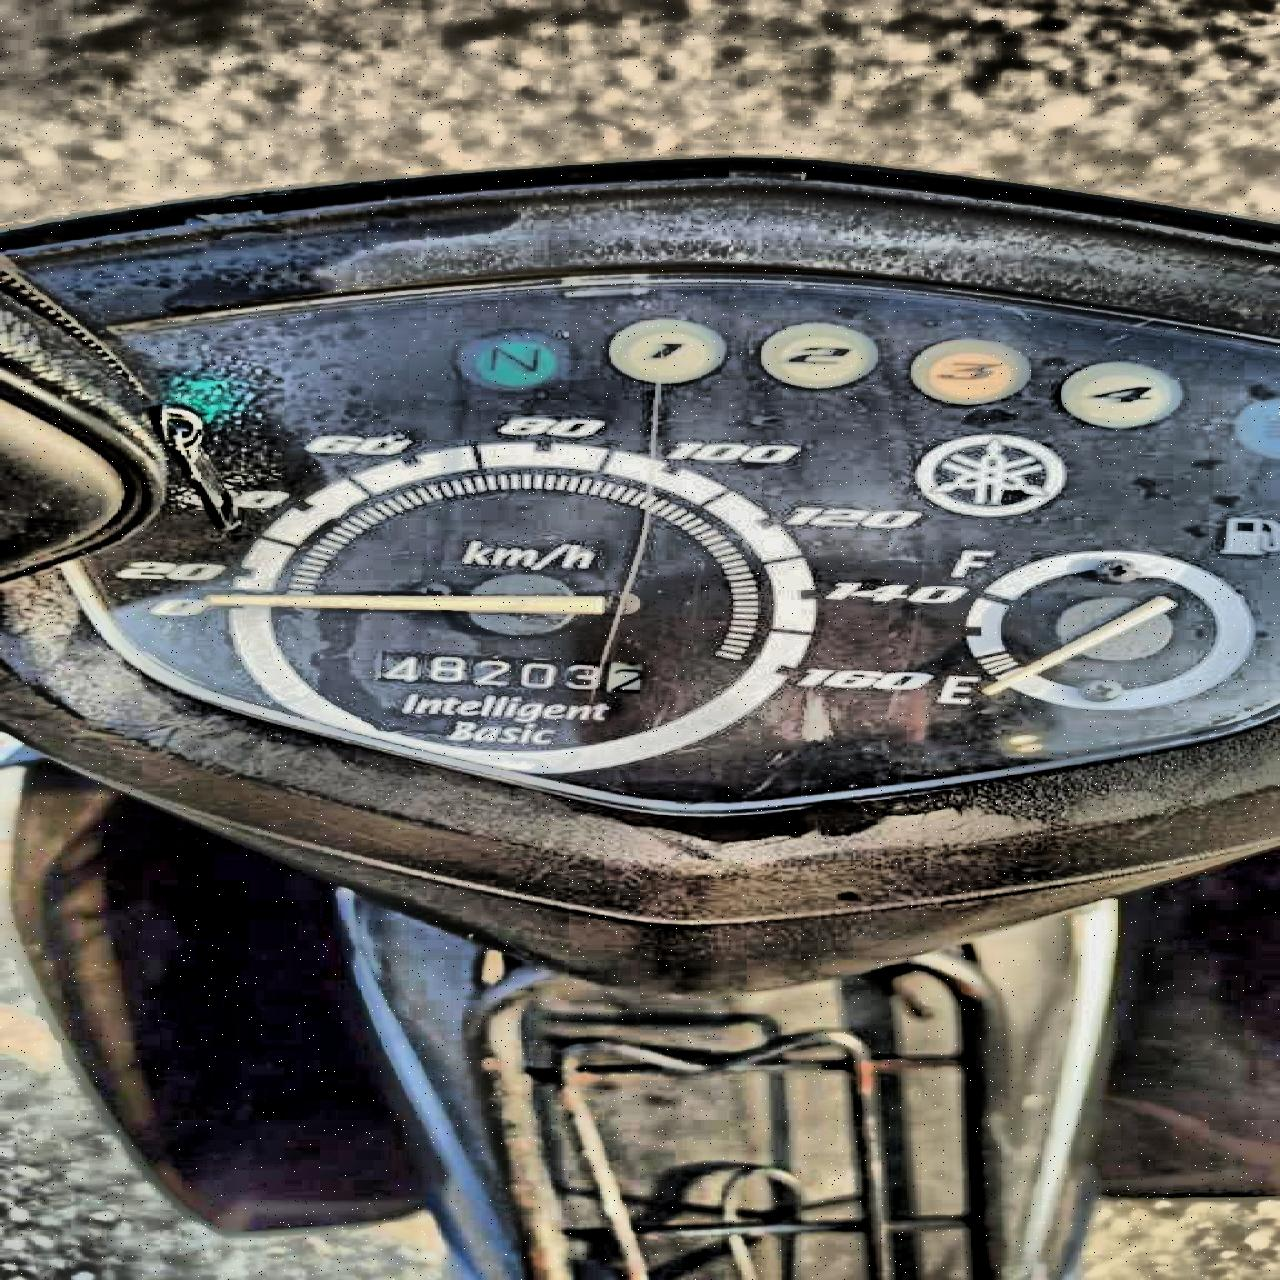0: (513, 660, 556, 688)
2: (471, 658, 511, 688), (610, 667, 640, 693)
3: (561, 662, 600, 689)
4: (380, 654, 422, 686)
8: (427, 655, 462, 685)
odometer: (372, 649, 645, 695)
